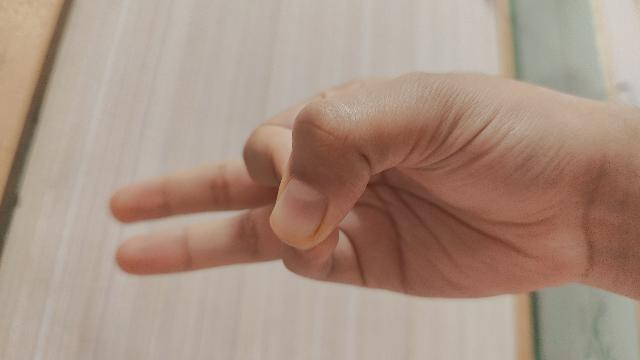katak: (112, 72, 640, 304)
